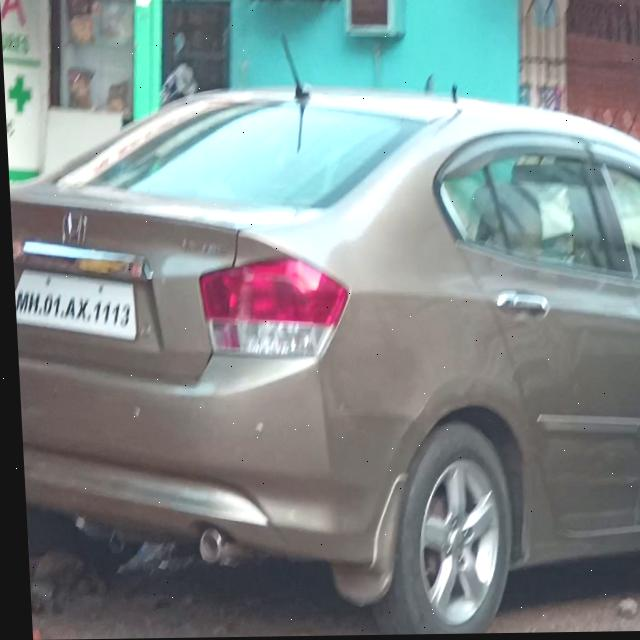plate: (11, 267, 137, 344)
